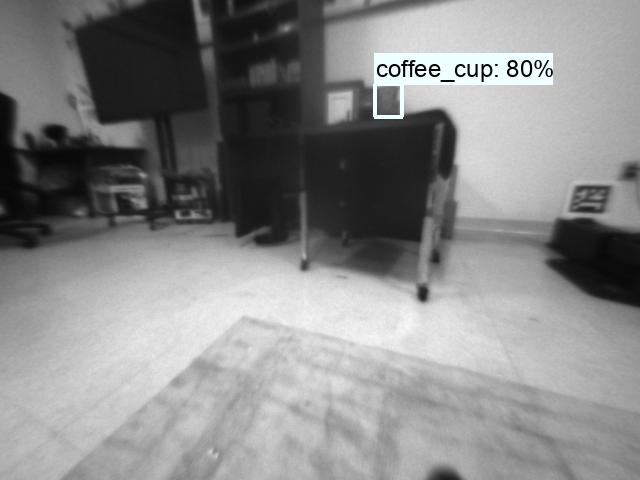coffee_cup: (376, 85, 399, 118)
